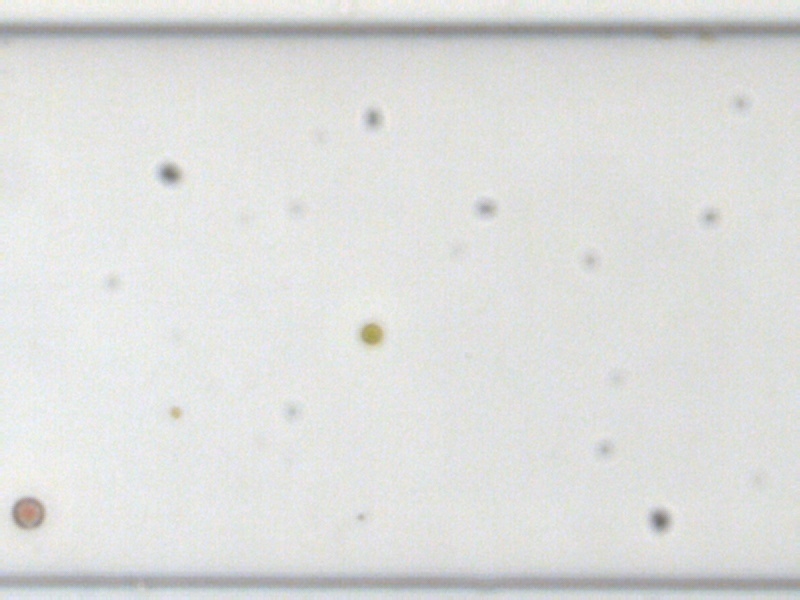Chlorella: (358, 321, 384, 344), (168, 404, 181, 419)
Porphyridium: (6, 492, 49, 533)
